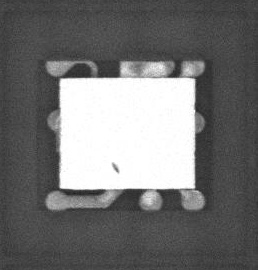DIE_INK: (110, 162, 120, 173)
